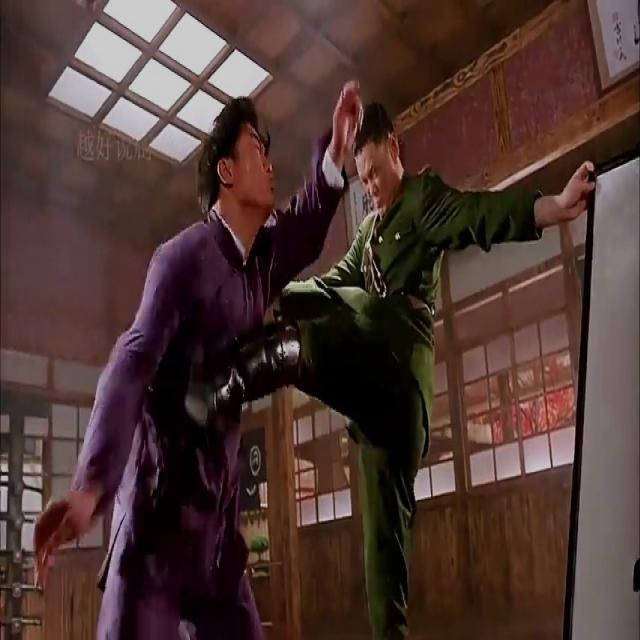fight: (50, 66, 597, 638)
